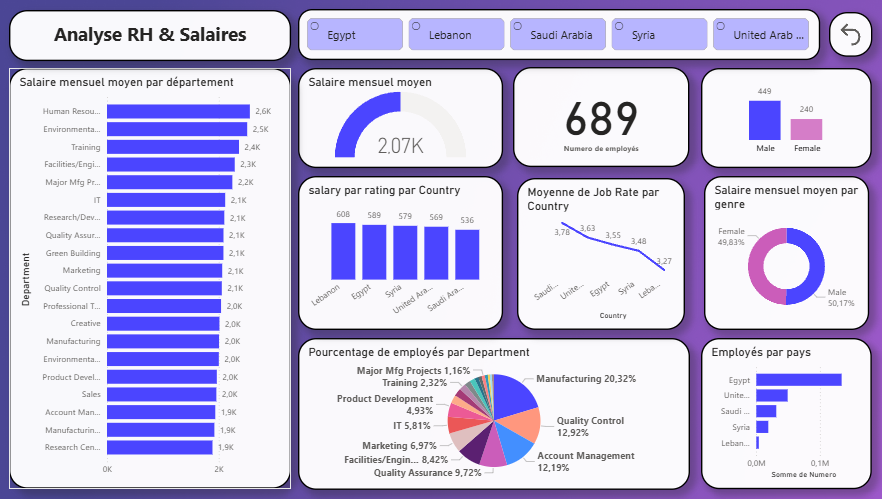

The page's visual inventory and layout, read from the dashboard file:
{"tool":"powerbi","page":{"name":"Analyse RH & Salaires","canvas":[1280,720],"ordinal":2},"visuals":[{"type":"donutChart","title":"Salaire mensuel moyen par genre","fields":{"Category":["EmpTable.Gender"],"Y":["Avg(EmpTable.Monthly Salary)"]},"box":[1007.1,254.3,235.7,220],"z":0},{"type":"card","fields":{"Values":["CountNonNull(EmpTable.No)"]},"box":[734.1,98.4,252.3,142.5],"z":1000},{"type":"columnChart","fields":{"Y":["CountNonNull(EmpTable.No)"],"Category":["EmpTable.Gender"]},"box":[1002.9,100,244.3,142.9],"z":2000},{"type":"gauge","title":"Salaire mensuel moyen","fields":{"Y":["Avg(EmpTable.Monthly Salary)"]},"box":[427.1,100,292.9,142.9],"z":3000},{"type":"clusteredBarChart","title":"Salaire mensuel moyen par département","fields":{"Category":["EmpTable.Department"],"Y":["Avg(EmpTable.Monthly Salary)"]},"box":[14.3,100,402.9,601.4],"z":4000},{"type":"barChart","title":"Employés par pays","fields":{"Category":["EmpTable.Country"],"Y":["Sum(EmpTable.No)"]},"box":[1002.9,485.7,244.3,215.7],"z":5000},{"type":"textbox","box":[14.3,17.1,402.9,72.9],"z":6000},{"type":"pieChart","fields":{"Category":["EmpTable.Department"],"Y":["CountNonNull(EmpTable.No)"]},"box":[427.1,485.7,560,217.1],"z":7000},{"type":"lineChart","title":"Moyenne de Job Rate par Country","fields":{"Category":["EmpTable.Country"],"Y":["Avg(EmpTable.Job Rate)"]},"box":[740,257.1,240,217.1],"z":8000},{"type":"columnChart","fields":{"Category":["EmpTable.Country"],"Y":["EmpTable.salary para rating"]},"box":[427.1,254.3,292.9,220],"z":9000},{"type":"advancedSlicerVisual","fields":{"Values":["EmpTable.Country"]},"box":[427.1,15.7,745.7,72.9],"z":10000},{"type":"actionButton","box":[1185,20,62,64],"z":10001}]}

Visuals, with their boxes in screenshot pixels (x1, y1, x2, y2), scaled from the page's 1280x720 canvas onto the 882x499 screenshot:
"Salaire mensuel moyen par genre" donutChart: bbox=(694, 176, 856, 329)
card - CountNonNull(EmpTable.No): bbox=(506, 68, 680, 167)
columnChart - CountNonNull(EmpTable.No) x EmpTable.Gender: bbox=(691, 69, 859, 168)
"Salaire mensuel moyen" gauge: bbox=(294, 69, 496, 168)
"Salaire mensuel moyen par département" clusteredBarChart: bbox=(10, 69, 287, 486)
"Employés par pays" barChart: bbox=(691, 337, 859, 486)
textbox: bbox=(10, 12, 287, 62)
pieChart - EmpTable.Department x CountNonNull(EmpTable.No): bbox=(294, 337, 680, 487)
"Moyenne de Job Rate par Country" lineChart: bbox=(510, 178, 675, 329)
columnChart - EmpTable.Country x EmpTable.salary para rating: bbox=(294, 176, 496, 329)
advancedSlicerVisual - EmpTable.Country: bbox=(294, 11, 808, 61)
actionButton: bbox=(817, 14, 859, 58)
